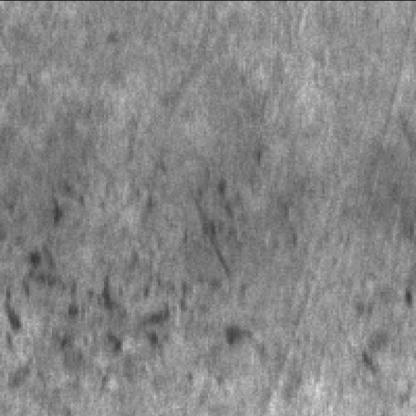rolled-in_scale: (6, 181, 262, 401), (353, 270, 416, 415)
